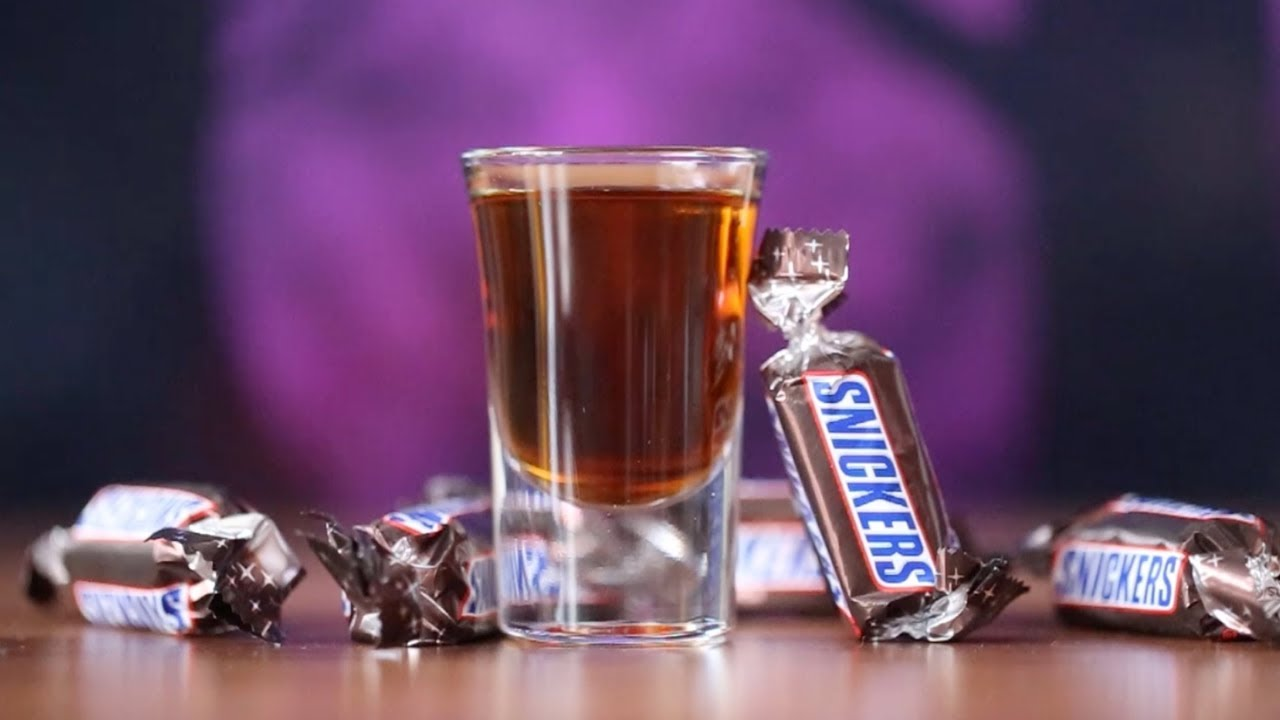snickers: (812, 377, 935, 584), (1061, 546, 1179, 607), (79, 586, 177, 626)
